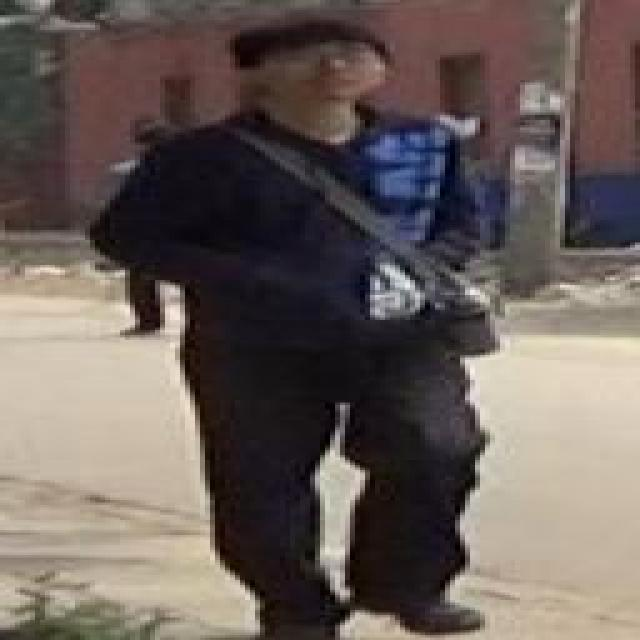adult: (106, 16, 520, 638)
